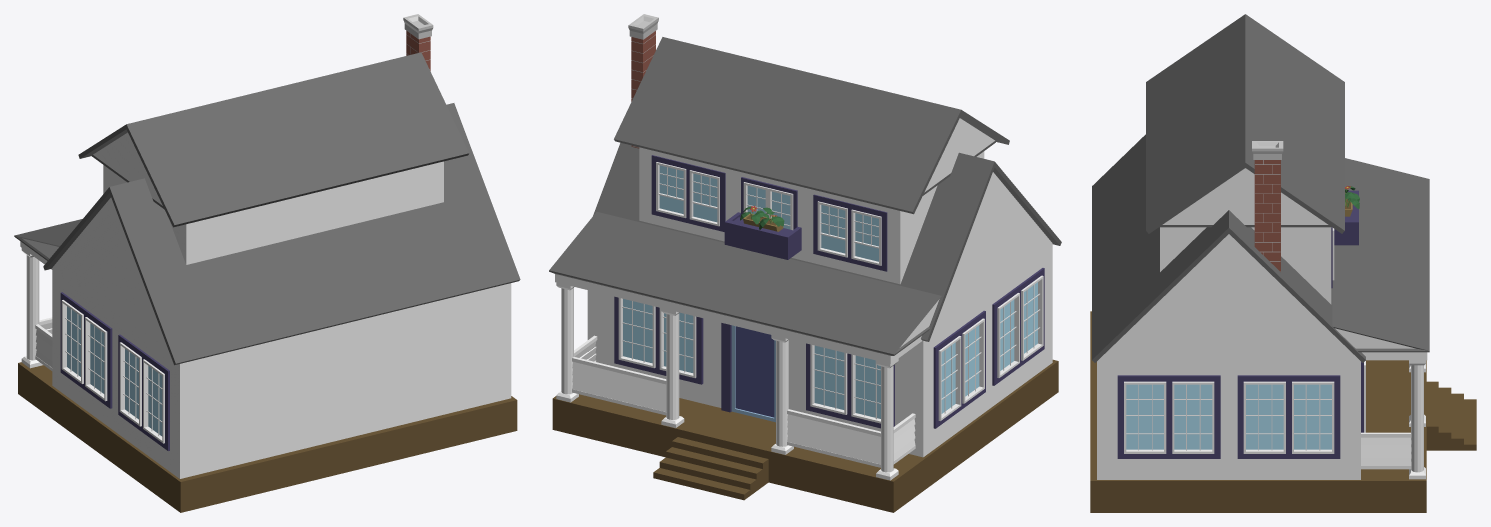
The model's file is house-transformed.glb.
3 renders of one model, left to right at view 1: azimuth 30°, elevation 25°; view 2: azimuth 150°, elevation 25°; view 3: azimuth 270°, elevation 25°, orthographic. The views are drawn at different scales.
Visible parts, largest first — view 1: house; view 2: house; view 3: house.
Boxes of the visible parts, box(x1,y1,x2,y2) form: house: box(14, 14, 520, 512); house: box(549, 14, 1061, 512); house: box(1090, 14, 1476, 512).
Size of the model in its own units: 9.36 by 9.08 by 8.79.
Materials: 1 (1 with a texture image).
